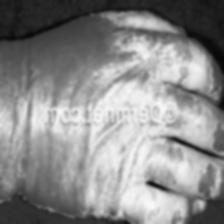Non-Cancerous Skin Condition: (0, 36, 189, 202)
